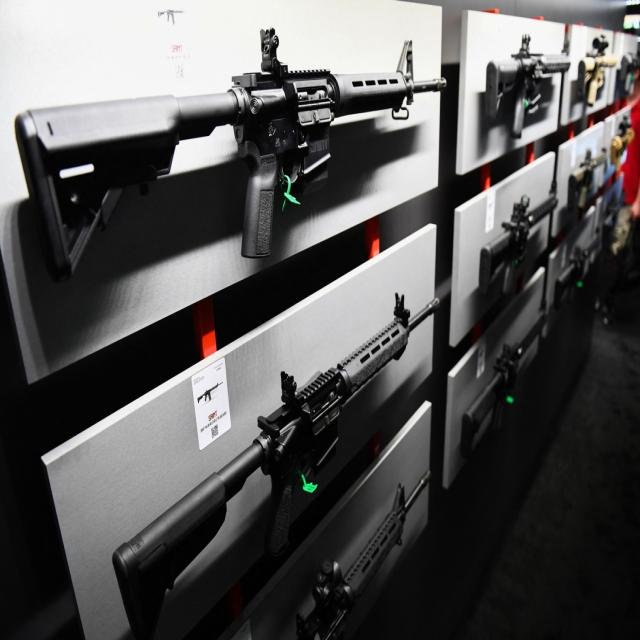Rifle: (113, 301, 438, 640), (14, 30, 445, 284), (461, 318, 545, 454), (485, 37, 571, 135), (479, 194, 559, 297), (577, 56, 617, 106)
